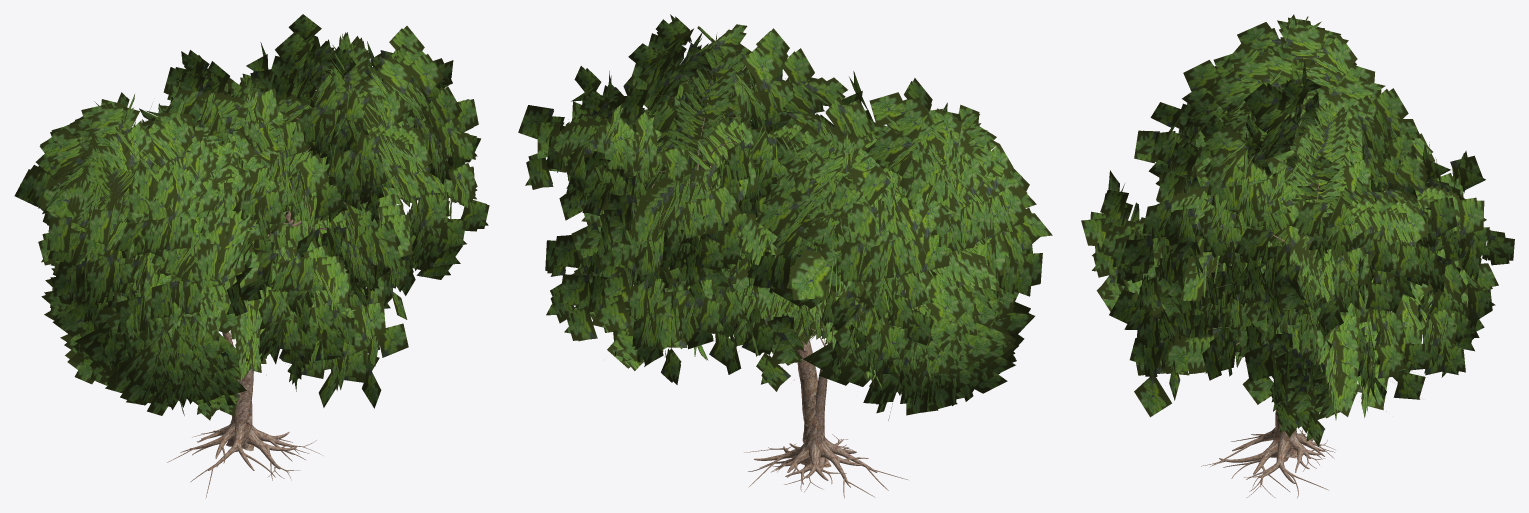
Rendered from campus-tree-01.glb.
The picture shows the model from 3 angles, left to right: view 1: azimuth 30°, elevation 25°; view 2: azimuth 150°, elevation 25°; view 3: azimuth 270°, elevation 25°; orthographic projection. The views are drawn at different scales.
Visible parts, largest first — view 1: tree.001; view 2: tree.001; view 3: tree.001.
Boxes of the visible parts, x1,y1,x2,y2 form: tree.001: (14,14,489,498); tree.001: (518,14,1052,498); tree.001: (1081,14,1514,498).
Size of the model in its own units: 0.0524 by 0.0431 by 0.0425.
2 materials, 2 textured.
